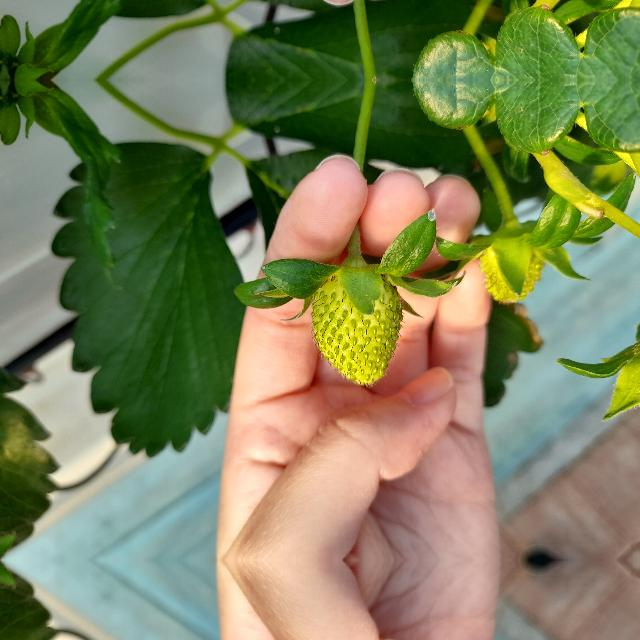Health_25: (310, 267, 404, 388)
